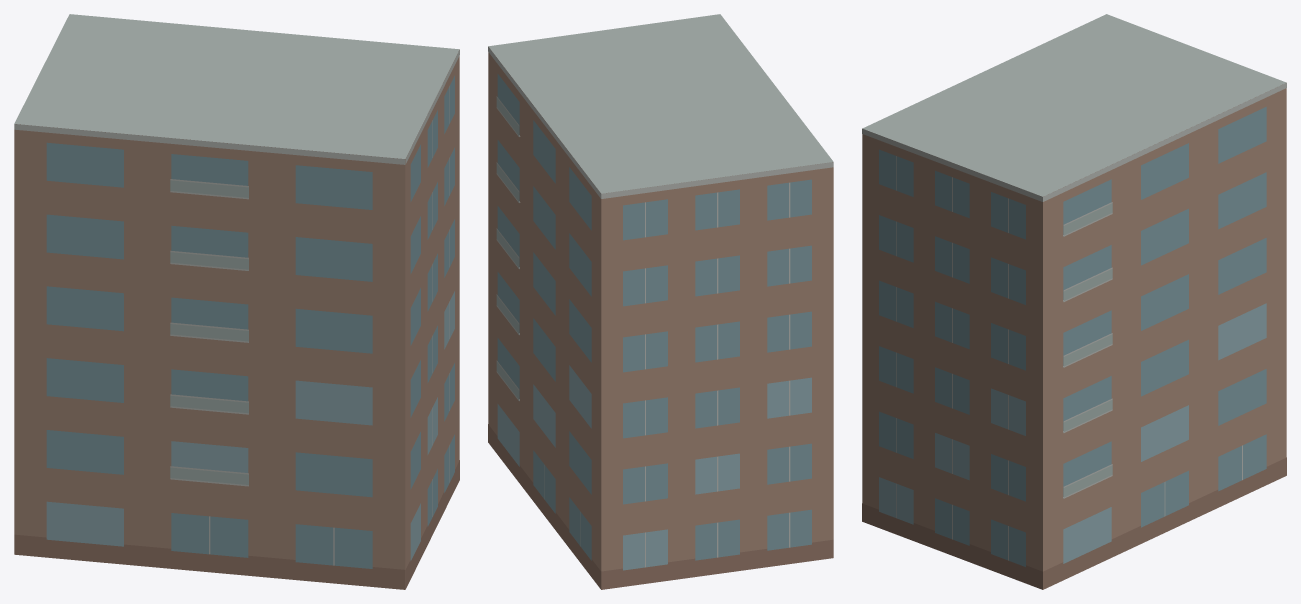
The model's file is survey-upis-32607330.glb.
The picture shows the model from 3 angles, left to right: view 1: azimuth 30°, elevation 25°; view 2: azimuth 150°, elevation 25°; view 3: azimuth 270°, elevation 25°; orthographic projection. The views are drawn at different scales.
Parts seen in each view (by area): view 1: survey-upis-32607330.tmp; view 2: survey-upis-32607330.tmp; view 3: survey-upis-32607330.tmp.
Boxes of the visible parts, box(x1,y1,x2,y2) form: survey-upis-32607330.tmp: box(14, 14, 459, 589); survey-upis-32607330.tmp: box(488, 14, 833, 589); survey-upis-32607330.tmp: box(862, 14, 1286, 589).
Size of the model in its own units: 18.02 by 18.05 by 17.68.
